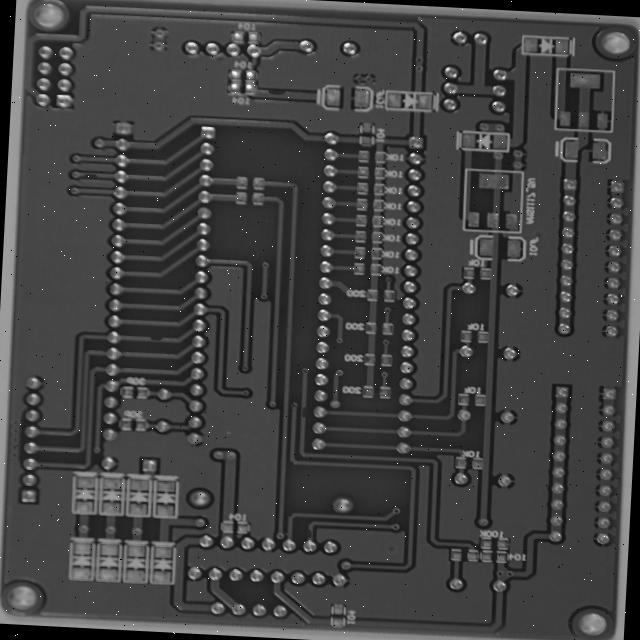mouse_bite: (315, 98, 349, 112), (174, 373, 199, 389), (364, 590, 382, 608), (358, 453, 373, 474), (96, 193, 121, 205)
